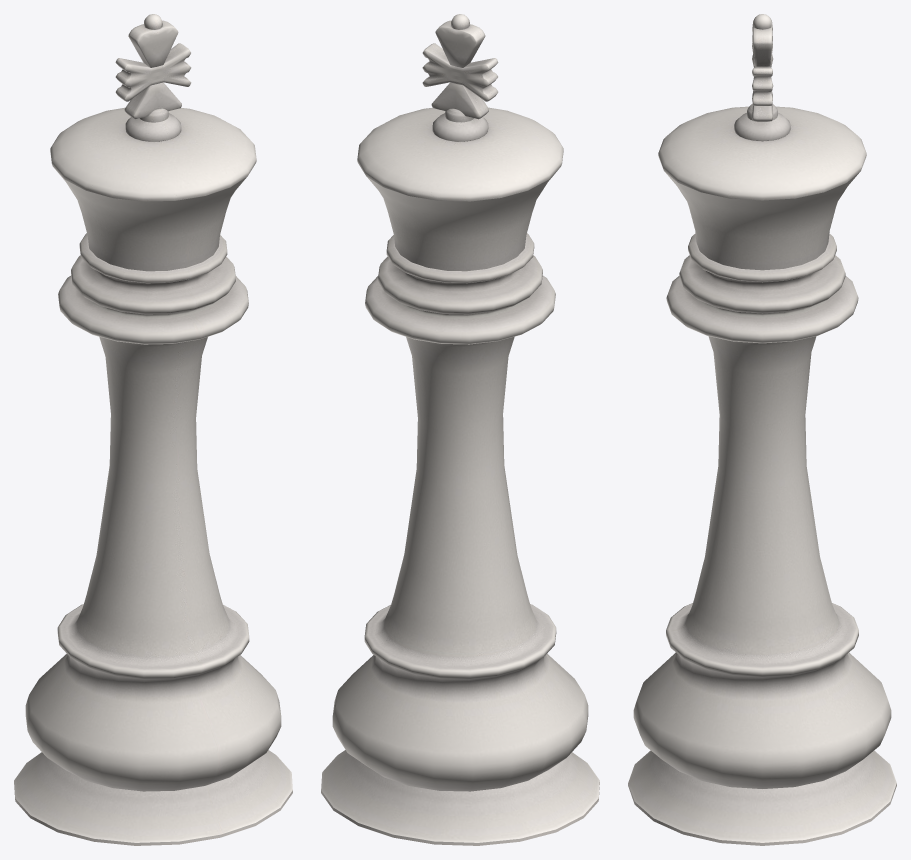
The model's file is White_King.dae.
The picture shows the model from 3 angles, left to right: view 1: azimuth 30°, elevation 25°; view 2: azimuth 150°, elevation 25°; view 3: azimuth 270°, elevation 25°; orthographic projection.
Parts seen in each view (by area): view 1: King; view 2: King; view 3: King.
Boxes of the visible parts, x1,y1,x2,y2 form: King: (14,14,292,845); King: (321,14,599,845); King: (628,14,896,845).
Bounding box in the file's own units: 2.02 × 6.08 × 1.92.
